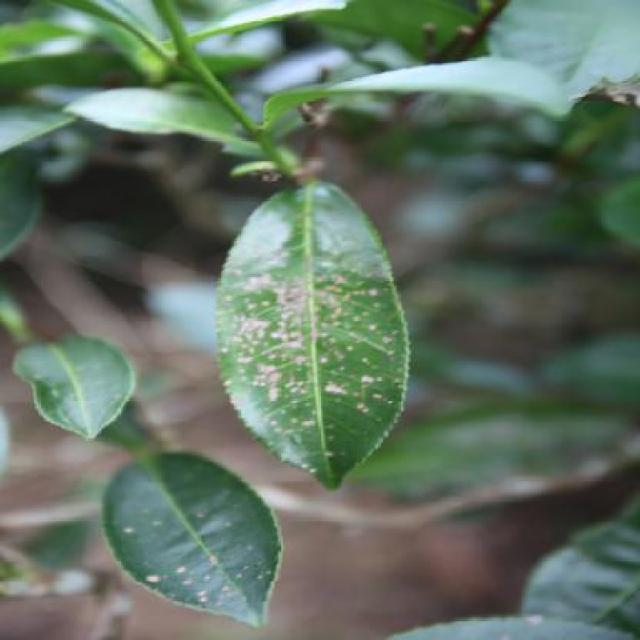Leaf rust of tea: (200, 166, 395, 485)
